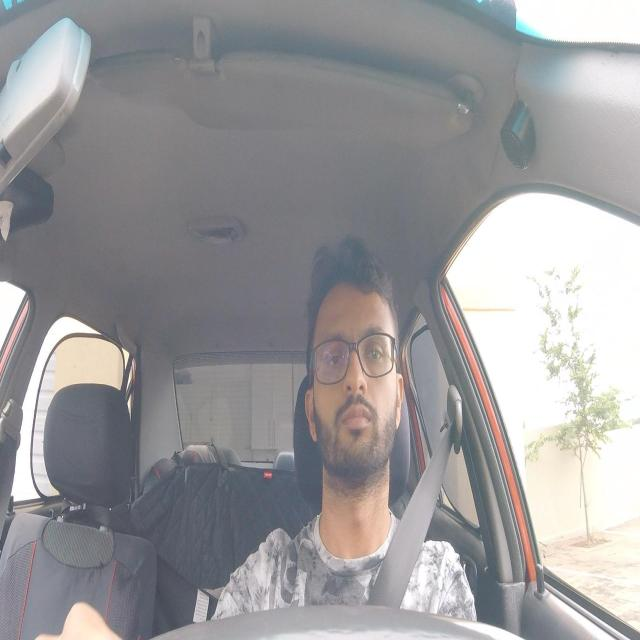open: (356, 323, 394, 371), (319, 328, 352, 378)
